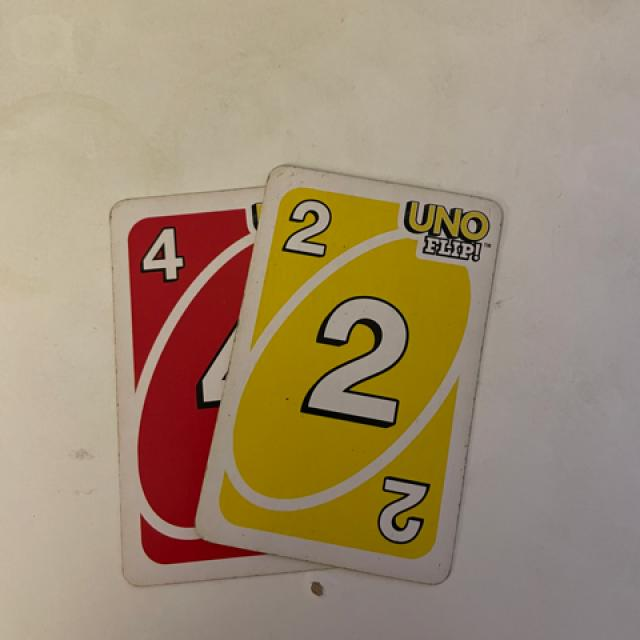lred-4: (122, 210, 204, 298)
lyellow-2: (276, 177, 337, 273)
